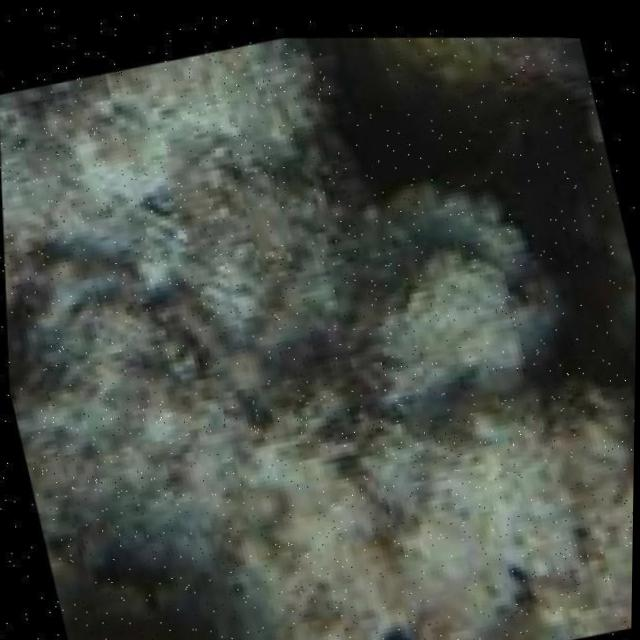Dead Coral: (10, 141, 577, 521)
